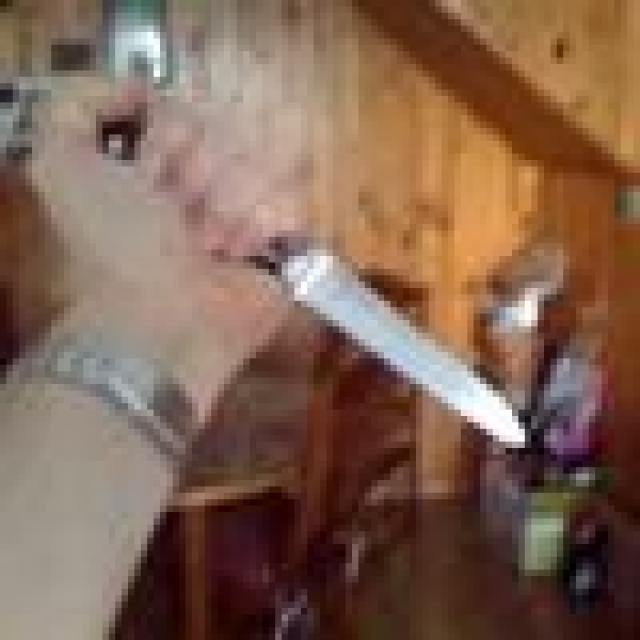knife: (283, 248, 536, 449)
